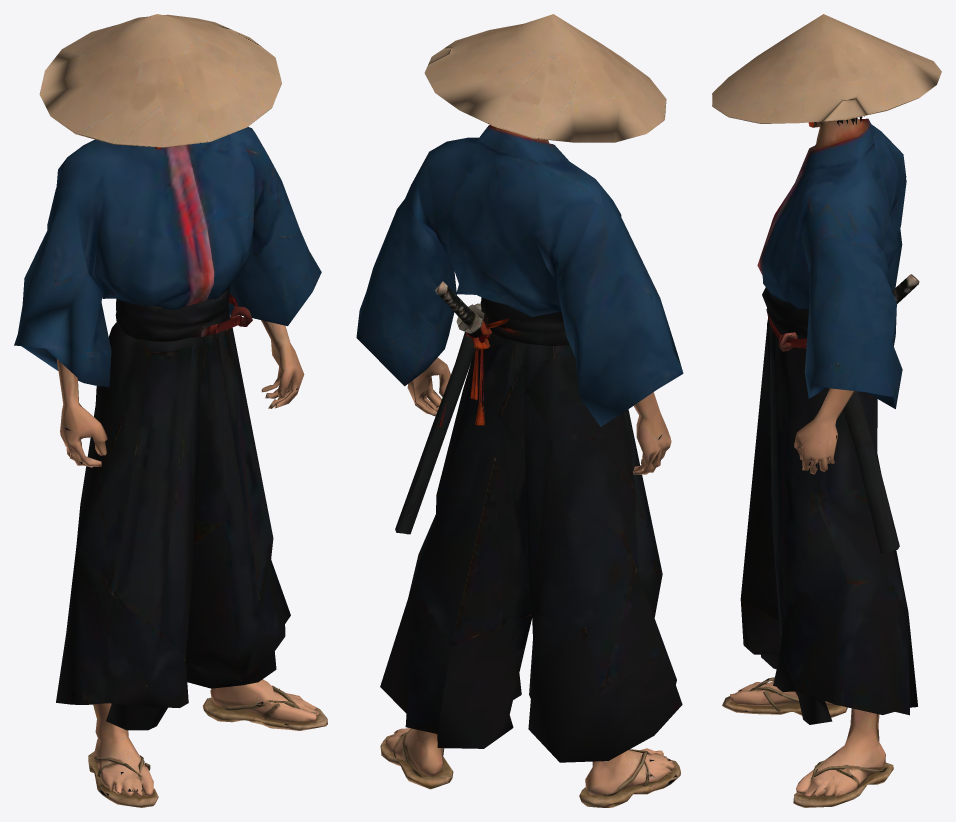
Rendered from p6-mobile.glb.
The picture shows the model from 3 angles, left to right: view 1: azimuth 30°, elevation 25°; view 2: azimuth 150°, elevation 25°; view 3: azimuth 270°, elevation 25°; orthographic projection. The views are drawn at different scales.
Parts seen in each view (by area): view 1: geometry_0; view 2: geometry_0; view 3: geometry_0.
Part boxes in pixels (x1,y1,x2,y2): geometry_0: [14, 14, 327, 807]; geometry_0: [356, 14, 683, 807]; geometry_0: [712, 14, 941, 807].
Size of the model in its own units: 0.7698 by 1.8 by 0.5197.
Materials: 1 (1 with a texture image).
